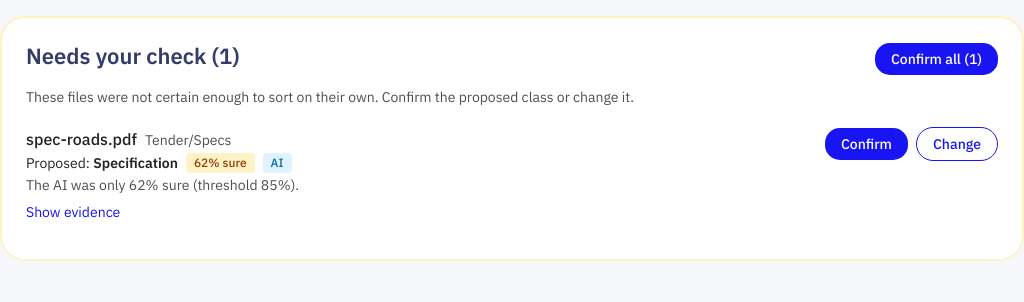
Test: NeedsCheckList › shows name, folder, proposal, confidence, reason and evidence on demand
The width and height of the screenshot is (1024, 302).
Expected: the text "Tender/Specs" is shown, x1=145 y1=131 x2=231 y2=149
Expected: the text "Specification" is shown, x1=93 y1=154 x2=178 y2=172
Click the button "Show evidence" at (73, 212), box x1=26 y1=202 x2=120 y2=222
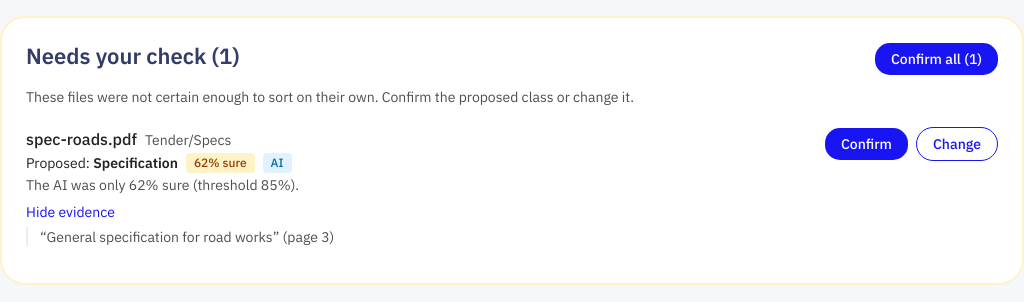
Now the text "“General specification for road works” (page 3)" is shown, box x1=40 y1=228 x2=334 y2=246
